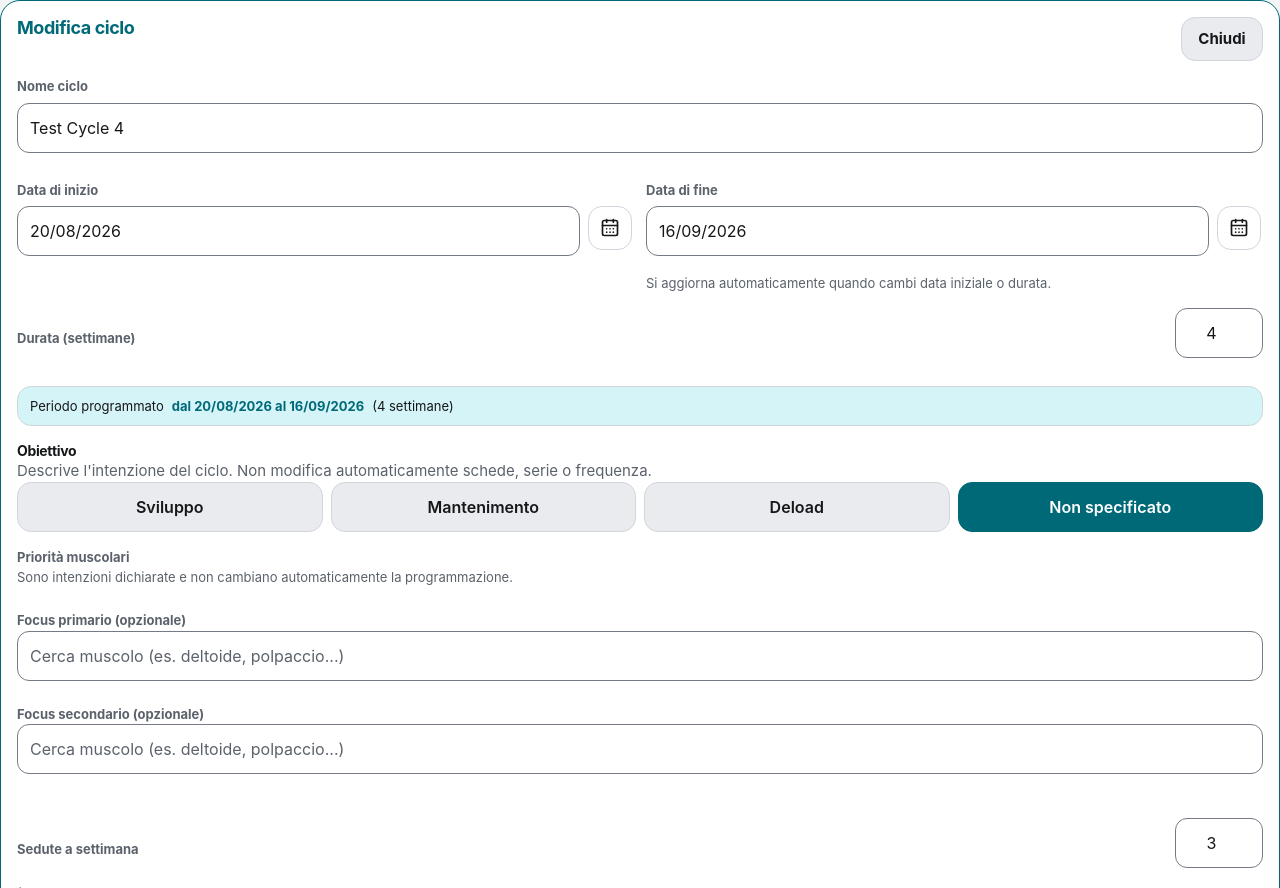
Test case: Challenger 2 Empirical Verification: CycleEditor UI & Two-Way Binding › Scenario 4: Text input blur auto-formats valid dates and recovers from invalid partial input
Note: Type partial/invalid date in start date input
Step 1. Replace the text in the field with id "cycle-start-date" with "invalid-date" → (298, 231), box 17,206 -> 580,256
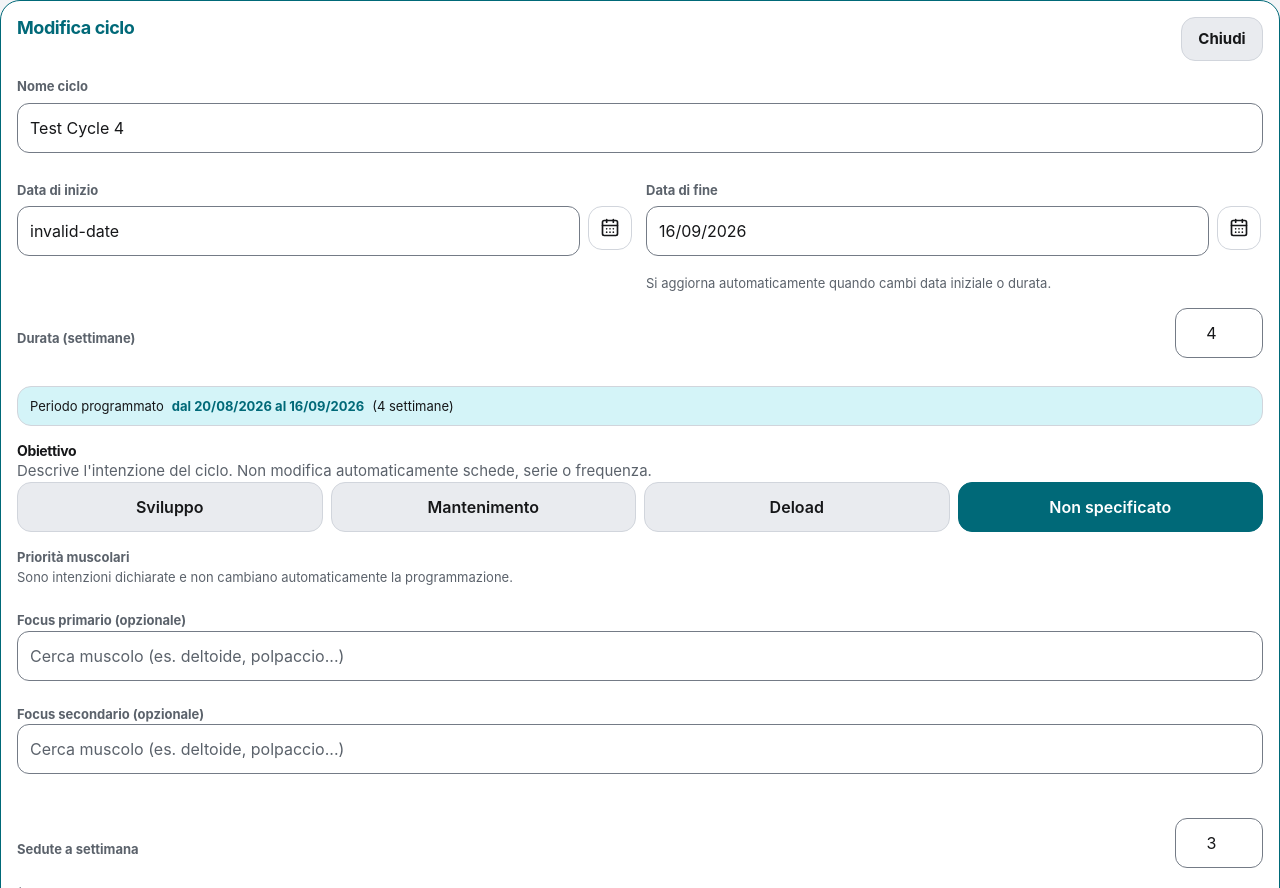
Note: On blur, it should recover to last valid formatted date (20/08/2026)
Step 2. Leave the field with id "cycle-start-date", box 17,206 -> 580,256
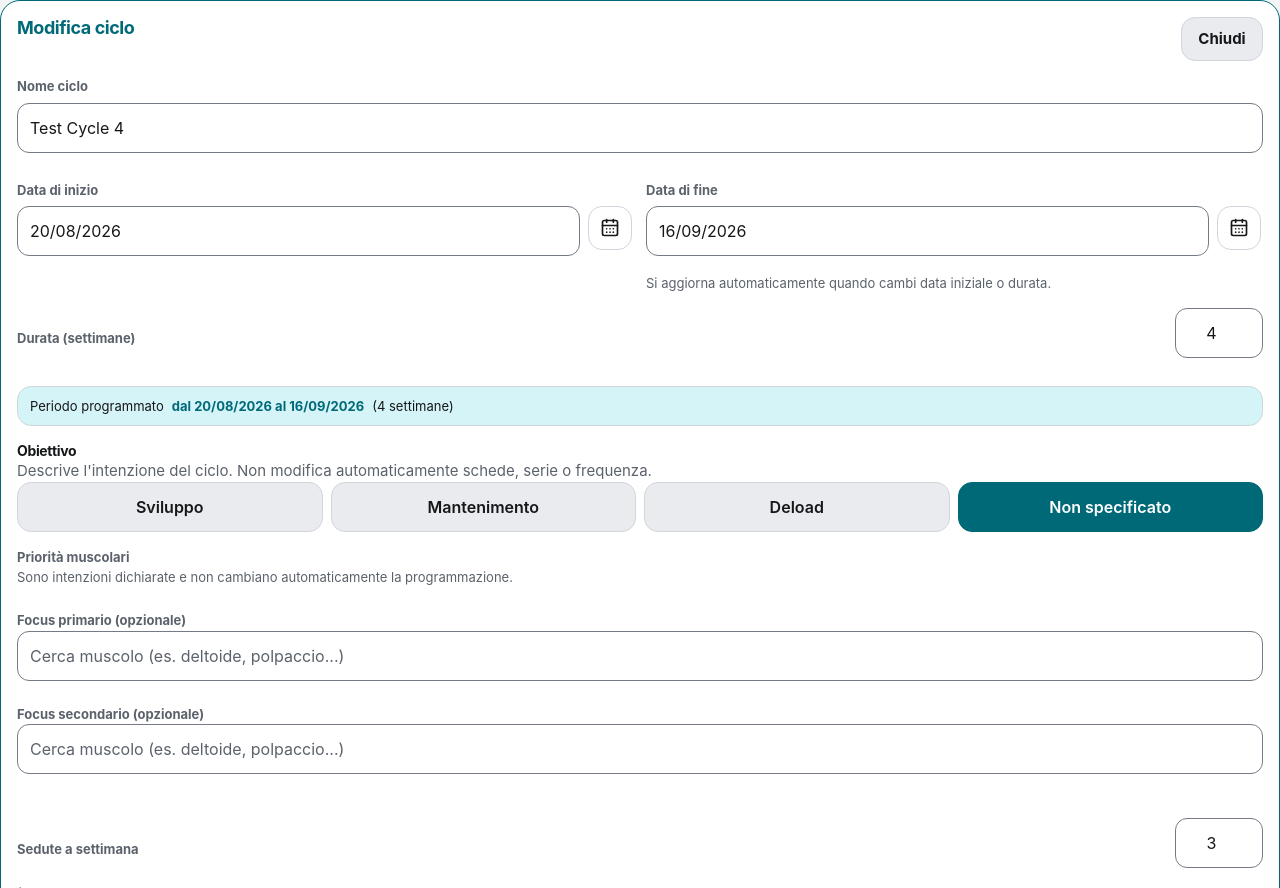
Expected: the field with id "cycle-start-date" holds "20/08/2026", 17,206 -> 580,256
Note: Type partial/invalid date in end date input
Step 3. Replace the text in the field with id "cycle-end-date" with "bad-text" → (928, 231), box 646,206 -> 1209,256
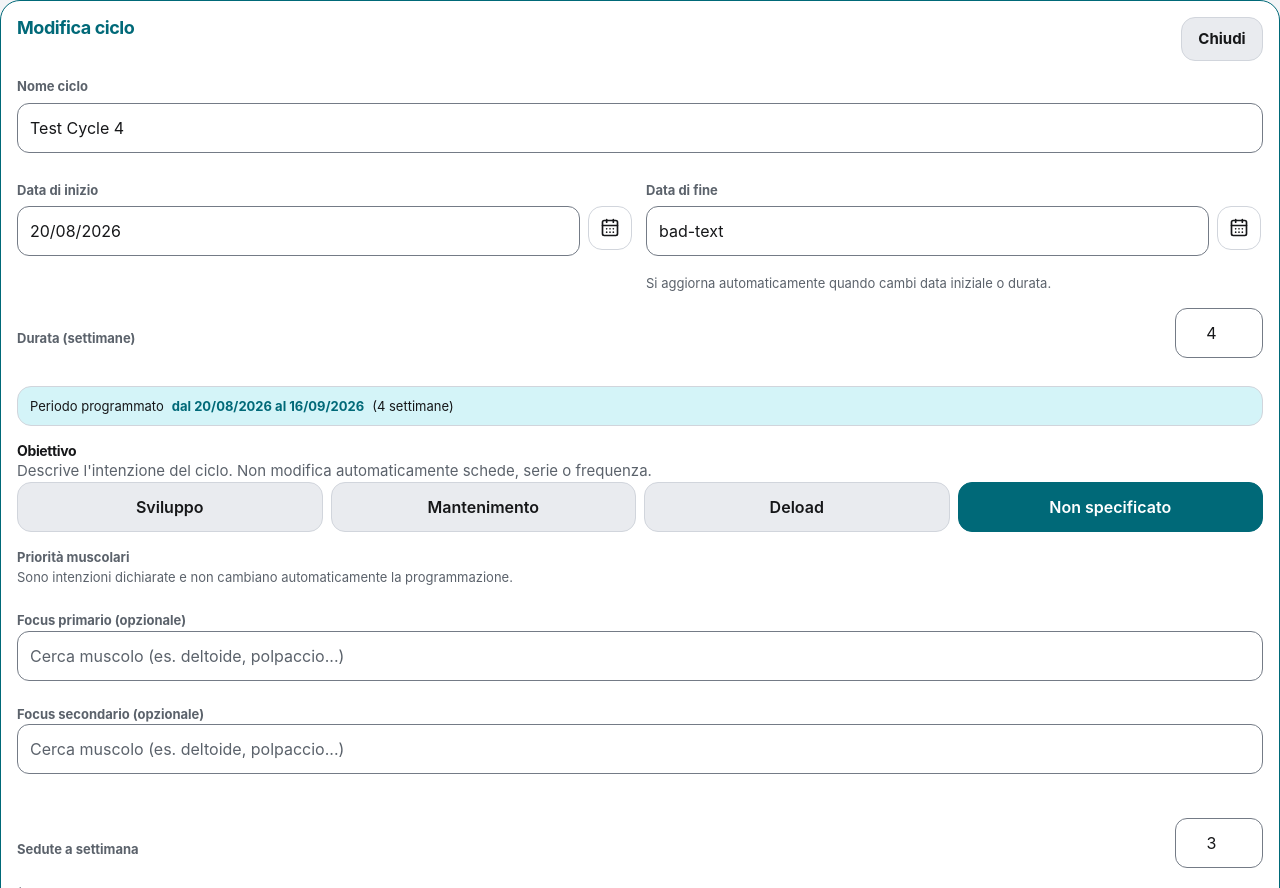
Note: On blur, it should recover to last valid formatted end date (16/09/2026)
Step 4. Leave the field with id "cycle-end-date", box 646,206 -> 1209,256
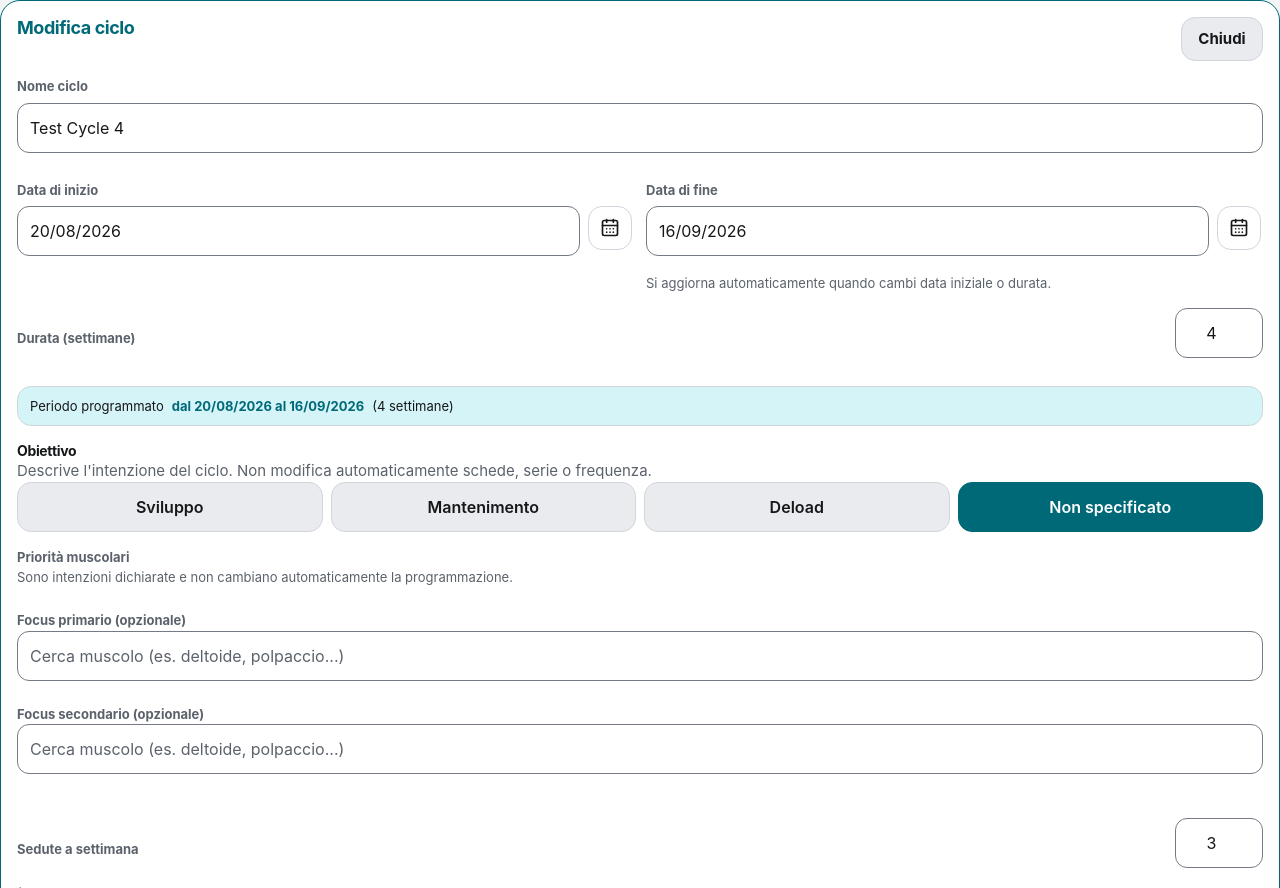
Expected: the field with id "cycle-end-date" holds "16/09/2026", 646,206 -> 1209,256
